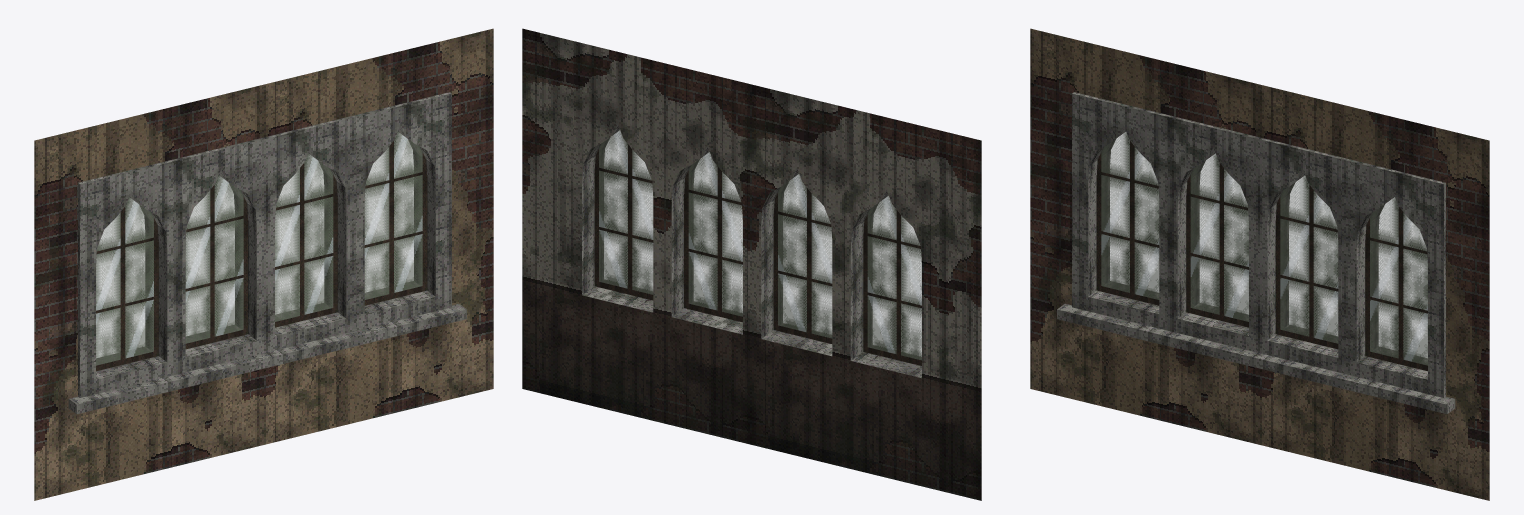
The model's file is ext_quadrifora.gltf.
The picture shows the model from 3 angles, left to right: view 1: azimuth 30°, elevation 25°; view 2: azimuth 150°, elevation 25°; view 3: azimuth 330°, elevation 25°; orthographic projection.
Parts seen in each view (by area): view 1: ext_quadrifora-col; view 2: ext_quadrifora-col; view 3: ext_quadrifora-col.
Part boxes in pixels (left/top/right/bottom): ext_quadrifora-col: left=34, top=28, right=493, bottom=500; ext_quadrifora-col: left=522, top=28, right=981, bottom=500; ext_quadrifora-col: left=1030, top=28, right=1489, bottom=500.
Bounding box in the file's own units: 4 × 3 × 0.42.
4 materials, 4 textured.
